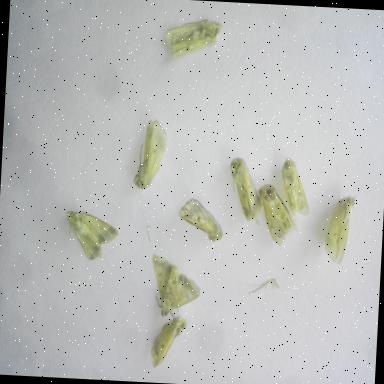abw: (144, 248, 208, 324), (158, 9, 227, 66), (59, 206, 122, 268), (254, 178, 306, 248), (130, 112, 170, 195), (319, 191, 361, 270), (224, 150, 268, 225), (175, 190, 228, 247), (144, 310, 190, 374), (275, 156, 317, 220)
